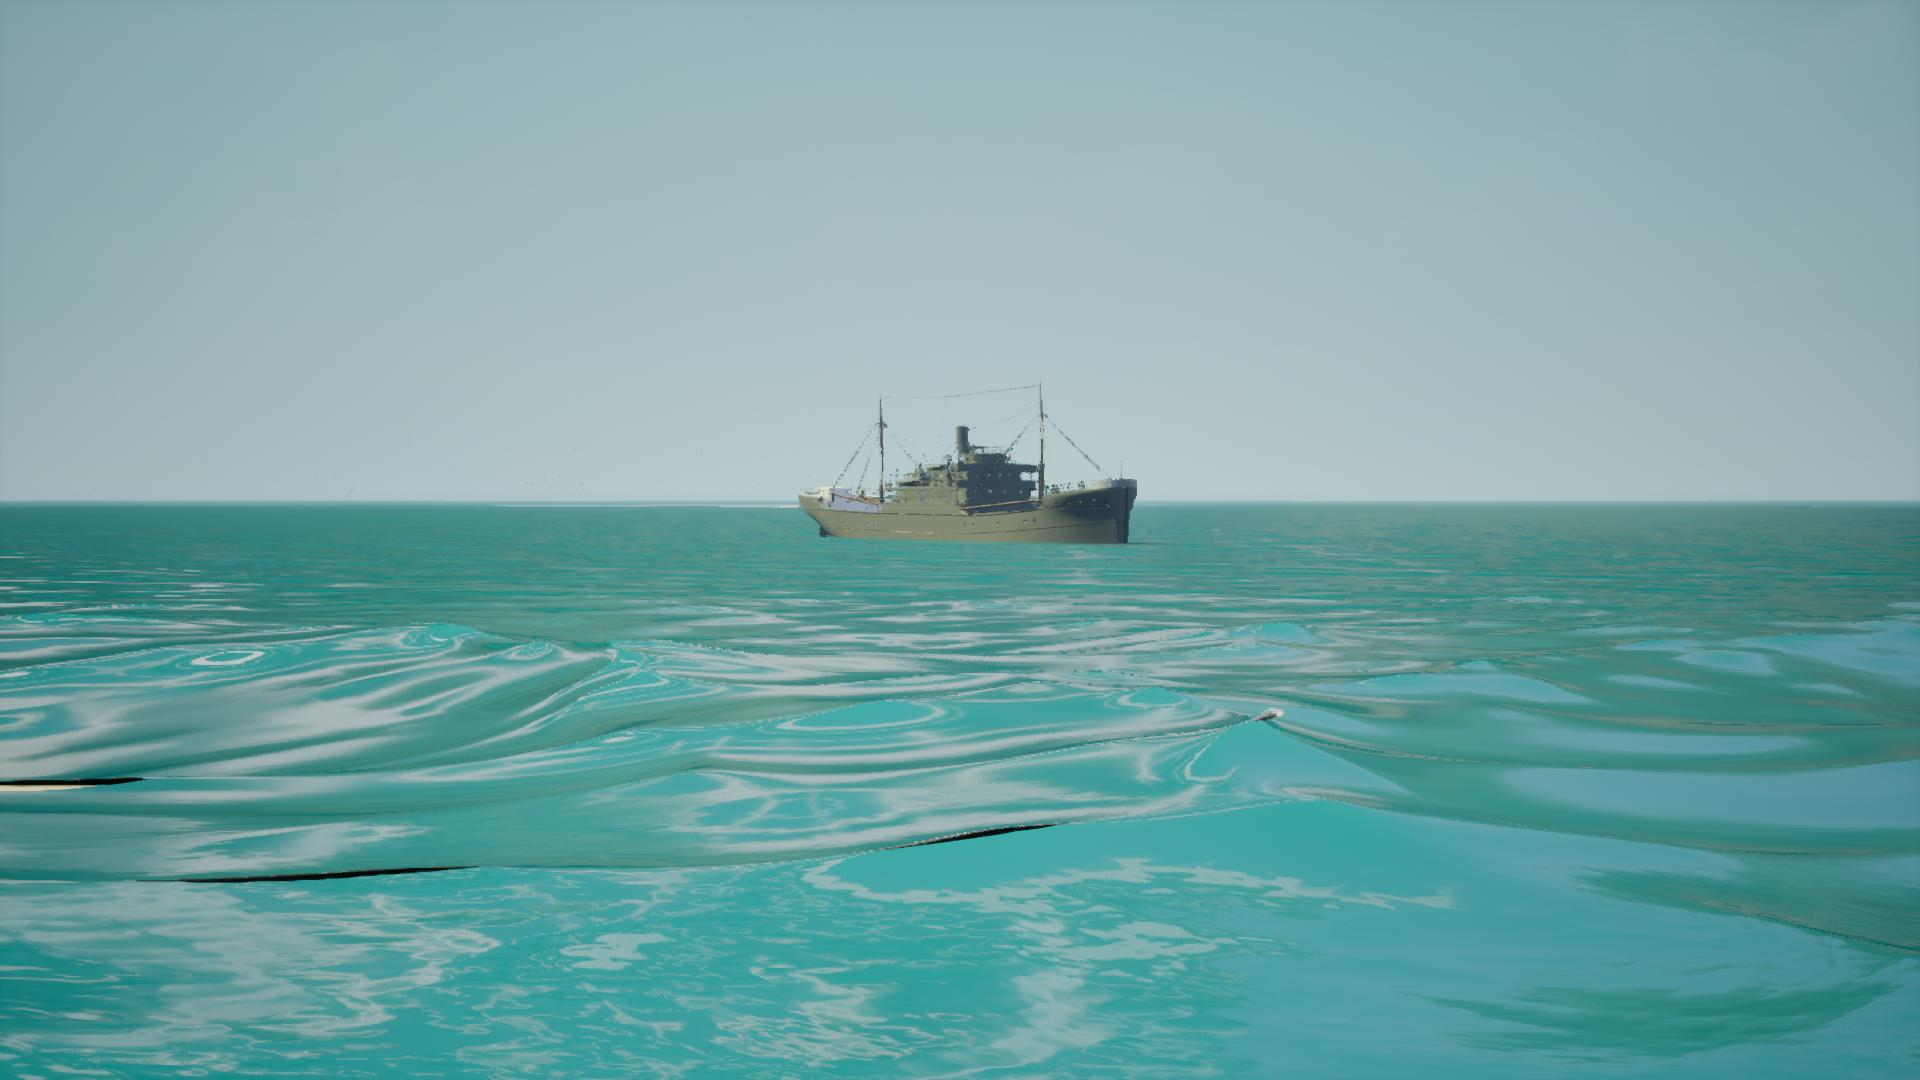Fishing Boat: (795, 388, 1138, 545)
